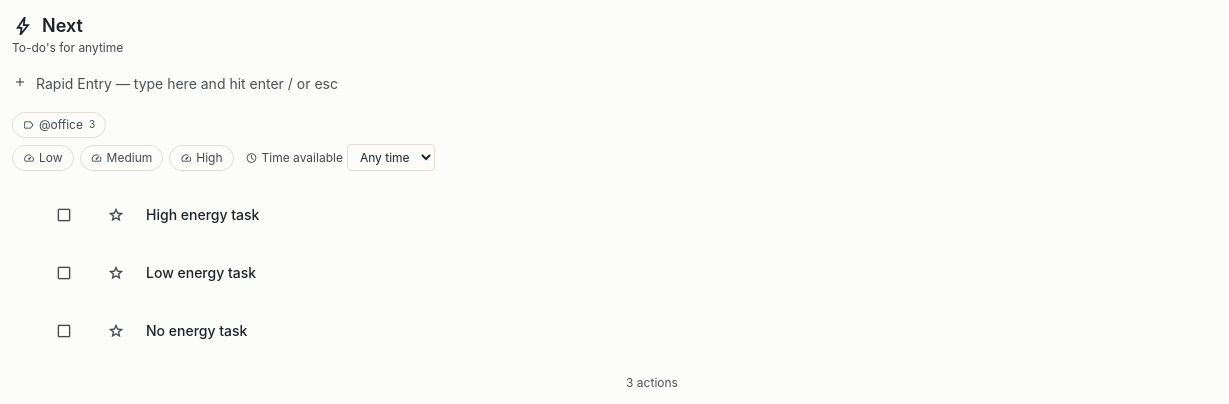
Test case: ActionList › energy filter shows only items matching selected energy level
The width and height of the screenshot is (1229, 404).
Expected: the button "High energy task" is shown, [146,205,1212,225]
Expected: the button "Low energy task" is shown, [146,263,1212,283]
Step 1. Click the radio button labelled "high" → (201, 158), box [169,144,234,170]
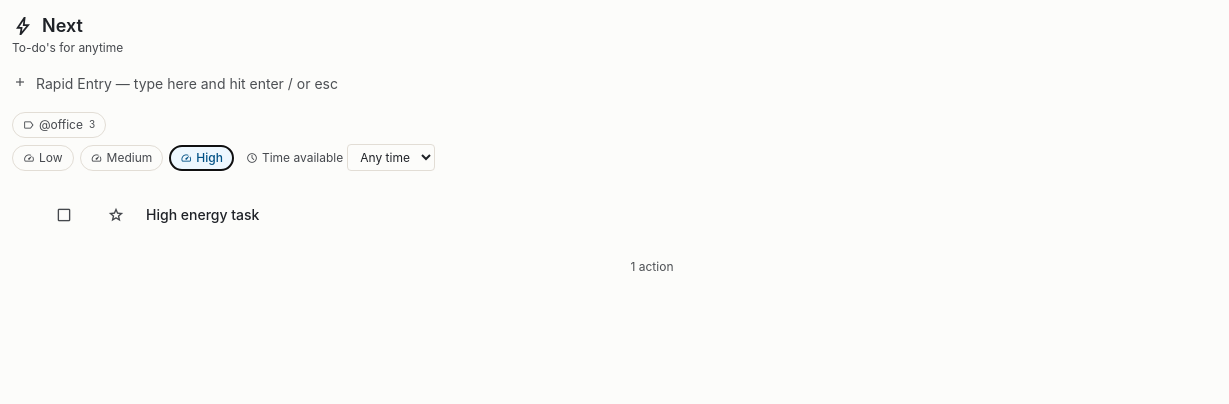
Expected: the button "High energy task" is shown, [146,205,1212,225]
Expected: the button "Low energy task" is gone
Expected: the button "No energy task" is gone
